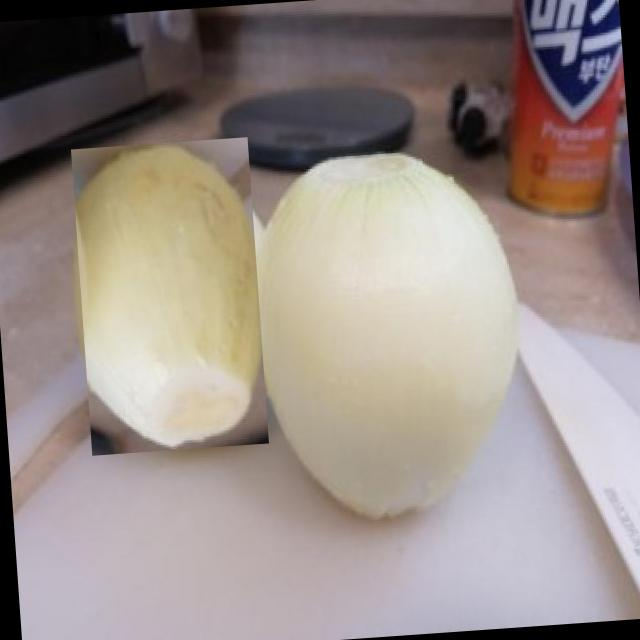Onion: (250, 135, 536, 542), (70, 136, 269, 456)
